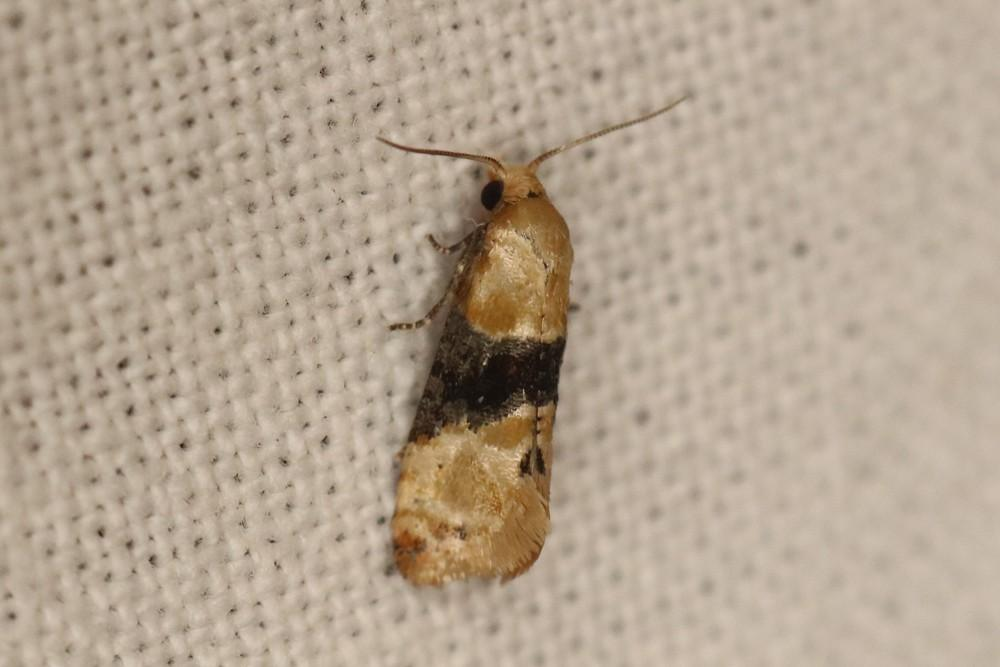Eupoecilia Ambiguella: (371, 89, 694, 590)
